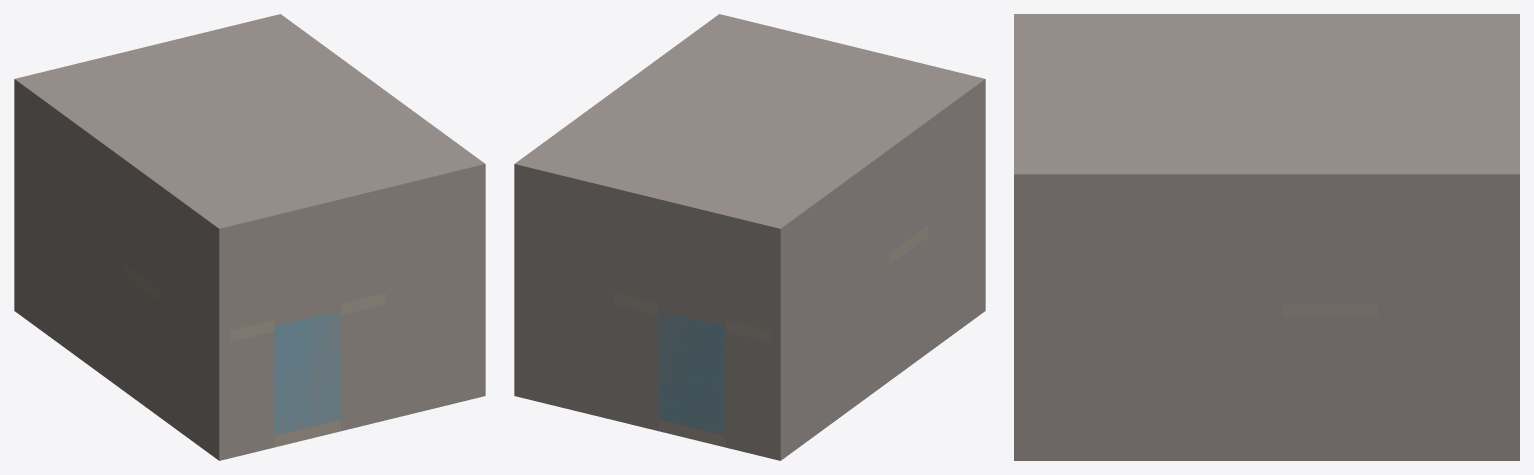
File: creek-cavern-mirror.glb
3 renders of one model, left to right at view 1: azimuth 30°, elevation 25°; view 2: azimuth 150°, elevation 25°; view 3: azimuth 270°, elevation 25°, orthographic. The views are drawn at different scales.
Visible parts, largest first — view 1: rock_40, rock_1, plug_creek_south, rock_24, rock_10, rock_33, rock_13, water_3, rock_22, plug_creek_south.001, rock_8, rock_9 (+17 smaller); view 2: rock_40, rock_1, rock_2, plug_creek_north, rock_24, rock_25, rock_10, water_1, rock_33, rock_13, rock_14, rock_22 (+8 smaller); view 3: rock_40, rock_7, rock_30, rock_21, plug_east, rock_3, rock_6, rock_4, rock_5, rock_26, rock_29, rock_27 (+5 smaller).
Boxes of the visible parts, x1=… form: rock_40: x1=14, y1=14, x2=485, y2=240; rock_1: x1=14, y1=183, x2=123, y2=390; plug_creek_south: x1=230, y1=211, x2=385, y2=330; rock_24: x1=14, y1=90, x2=123, y2=262; rock_10: x1=161, y1=291, x2=230, y2=460; rock_33: x1=161, y1=198, x2=230, y2=333; rock_13: x1=230, y1=331, x2=274, y2=458; water_3: x1=297, y1=311, x2=341, y2=430; rock_22: x1=123, y1=275, x2=161, y2=418; plug_creek_south.001: x1=274, y1=303, x2=341, y2=435; rock_8: x1=452, y1=271, x2=474, y2=403; rock_9: x1=430, y1=276, x2=452, y2=409; rock_40: x1=514, y1=14, x2=985, y2=240; rock_1: x1=769, y1=254, x2=889, y2=460; rock_2: x1=514, y1=268, x2=614, y2=420; plug_creek_north: x1=614, y1=211, x2=769, y2=330; rock_24: x1=769, y1=161, x2=889, y2=333; rock_25: x1=514, y1=175, x2=614, y2=292; rock_10: x1=928, y1=183, x2=985, y2=352; water_1: x1=658, y1=310, x2=725, y2=435; rock_33: x1=928, y1=90, x2=985, y2=224; rock_13: x1=725, y1=331, x2=769, y2=458; rock_14: x1=614, y1=304, x2=658, y2=430; rock_22: x1=889, y1=237, x2=927, y2=380; rock_40: x1=1014, y1=14, x2=1519, y2=188; rock_7: x1=1014, y1=303, x2=1282, y2=460; rock_30: x1=1014, y1=188, x2=1282, y2=303; rock_21: x1=1282, y1=317, x2=1377, y2=460; plug_east: x1=1282, y1=217, x2=1377, y2=303; rock_3: x1=1472, y1=303, x2=1504, y2=460; rock_6: x1=1377, y1=303, x2=1409, y2=460; rock_4: x1=1441, y1=303, x2=1472, y2=460; rock_5: x1=1409, y1=303, x2=1440, y2=460; rock_26: x1=1472, y1=188, x2=1504, y2=303; rock_29: x1=1377, y1=188, x2=1409, y2=303; rock_27: x1=1441, y1=188, x2=1472, y2=303.
Size of the model in its own units: 12 by 10 by 16.
